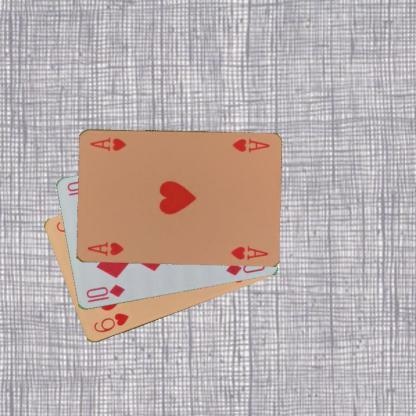10d: (83, 282, 126, 304)
6h: (90, 310, 130, 335)
Ah: (228, 136, 271, 154), (84, 240, 125, 258)
